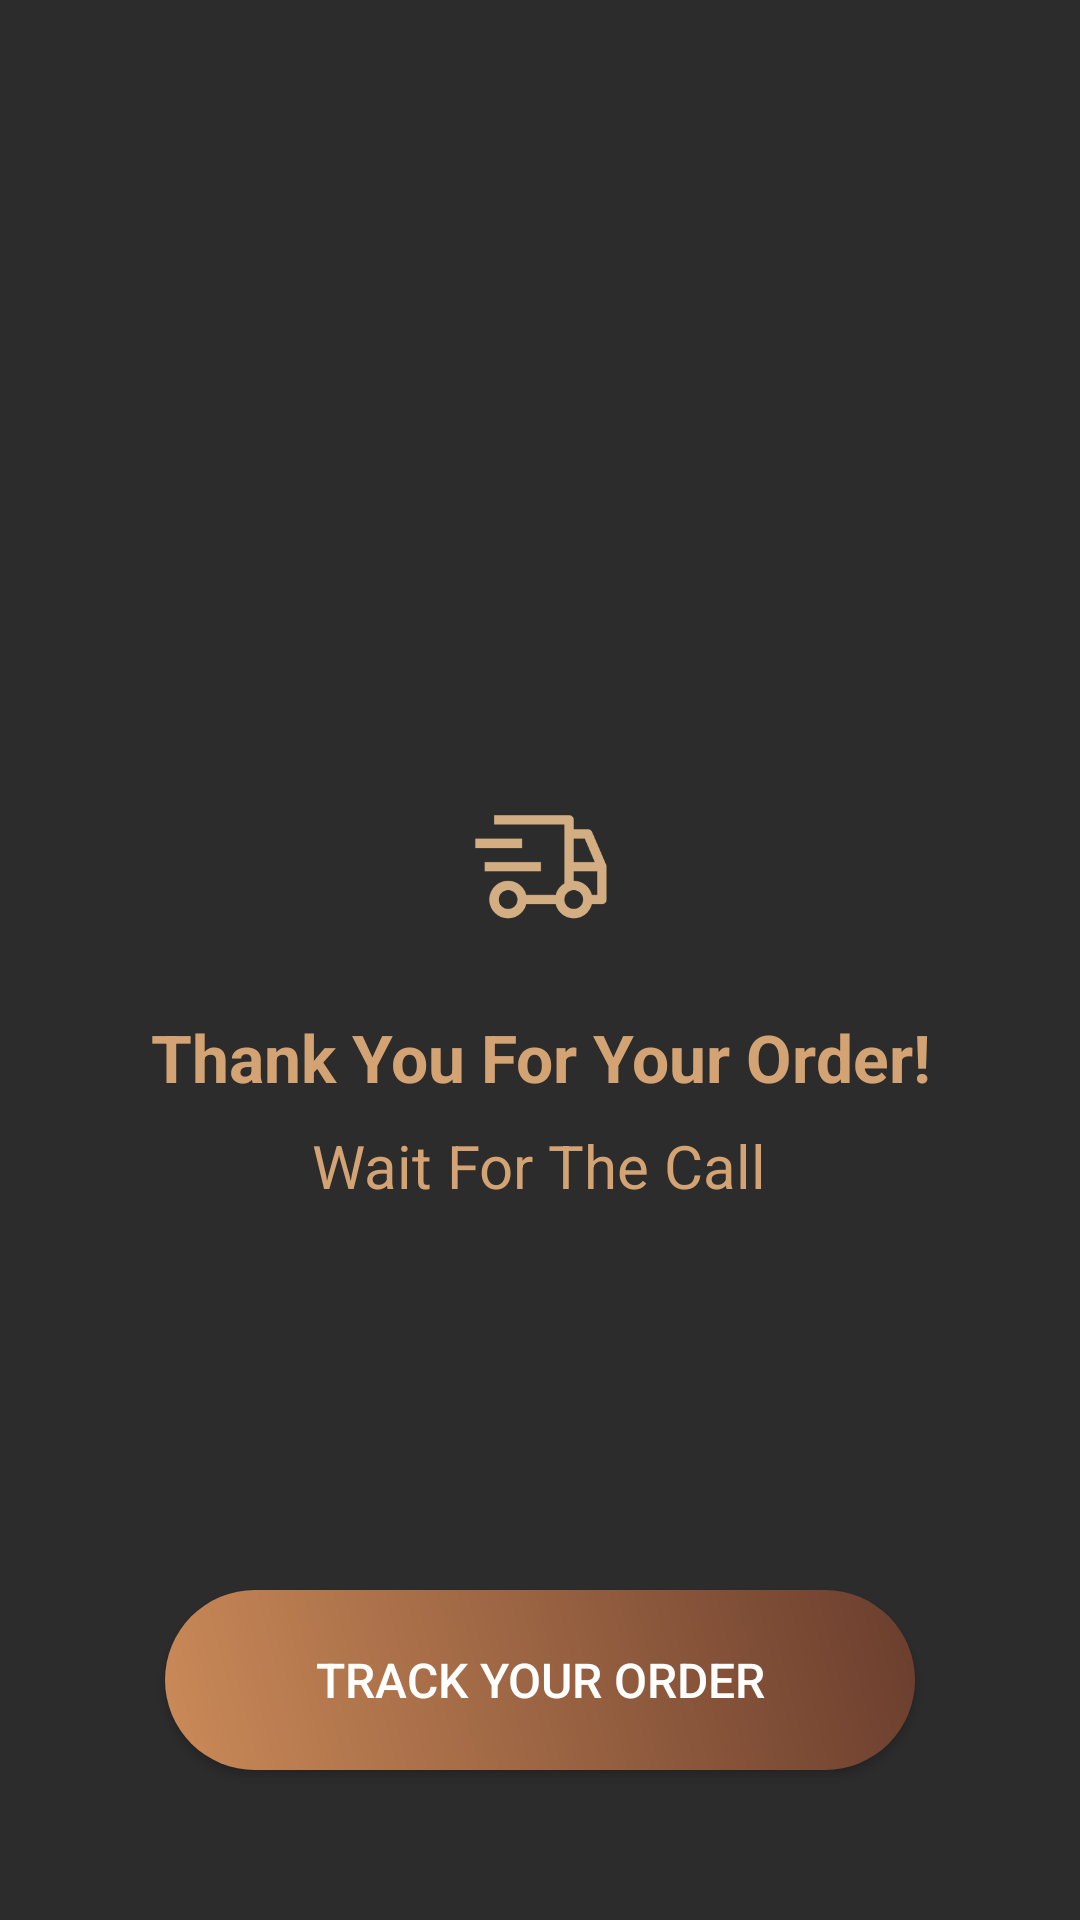

Icon click points for this 1080px x 1920px phone screenshot, format [x,y]:
Delivery Icon: [541,867]
